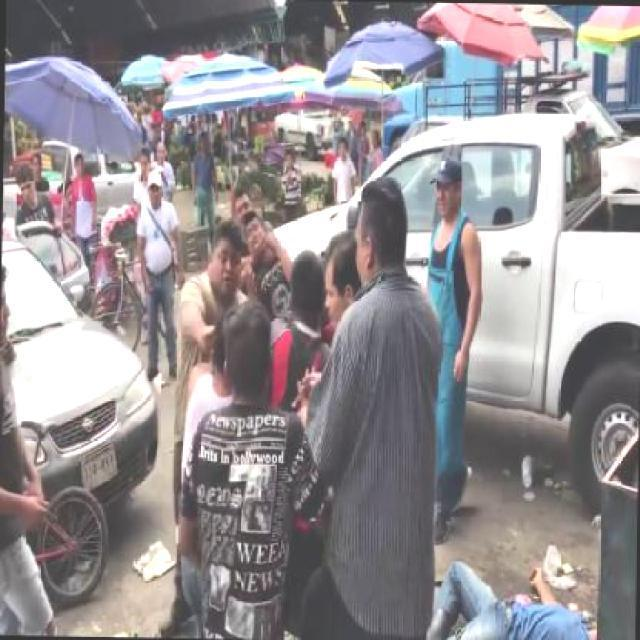fight: (166, 214, 248, 448)
